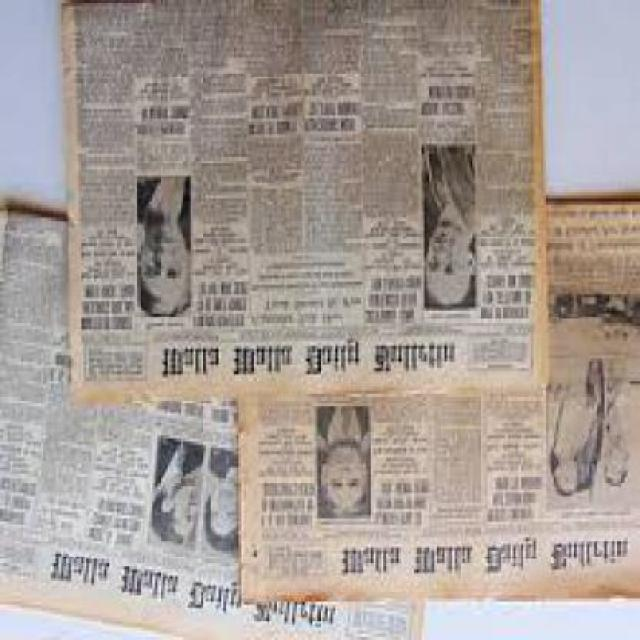PAPER: (67, 3, 541, 409), (0, 211, 422, 638), (236, 208, 638, 608)
